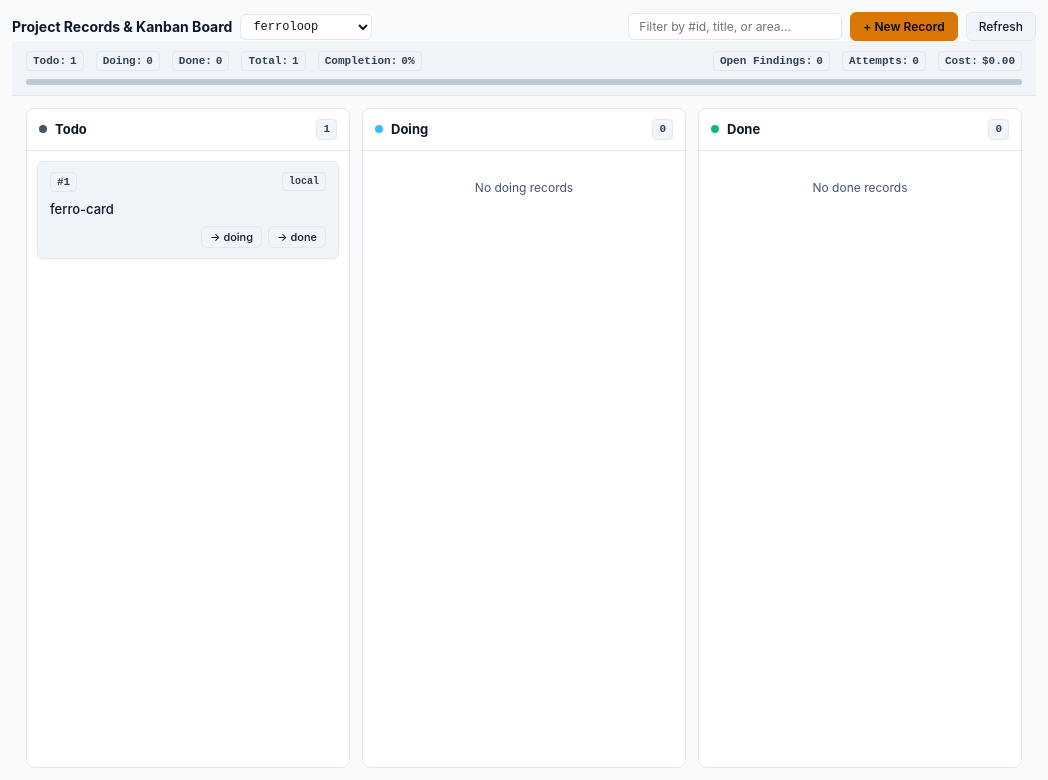
Test: RecordsBoardPane — answers that arrive after the user left the project › does not add a record created in one project to the board of another
Click the button with test id "board-new-record-btn".
click(904, 26)  # box left=850, top=12, right=958, bottom=41
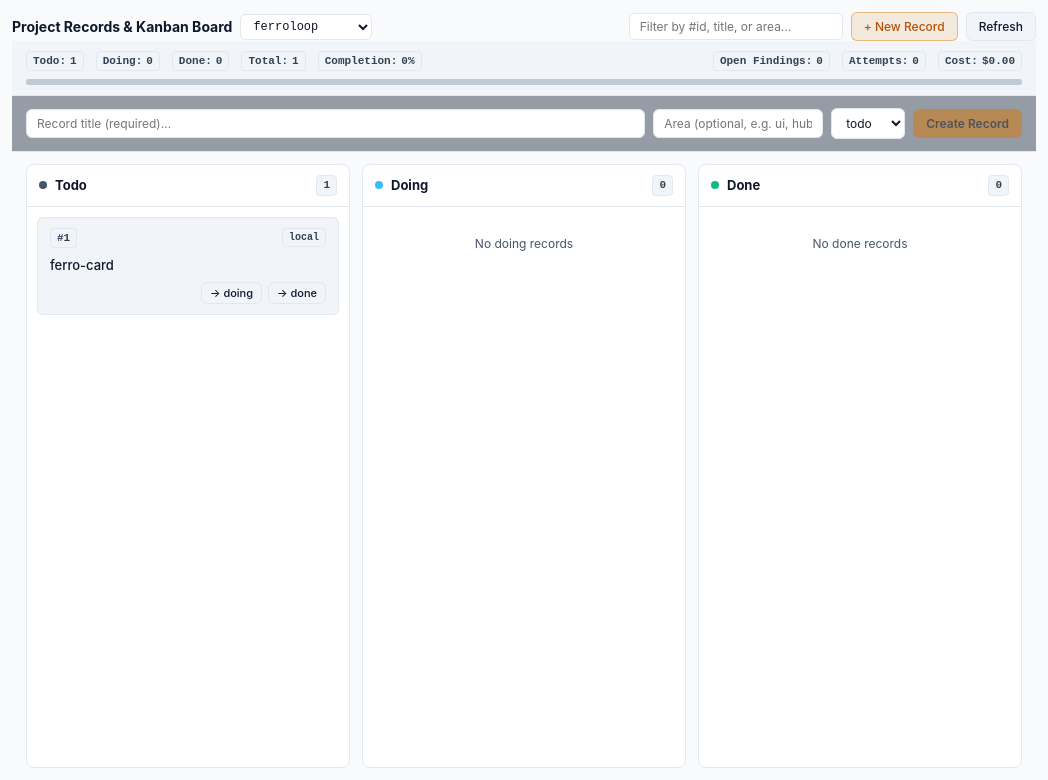
Type "made in ferroloop" into the field with test id "new-record-title-input".
click(336, 124); type("made in ferroloop")  # box left=26, top=109, right=645, bottom=138
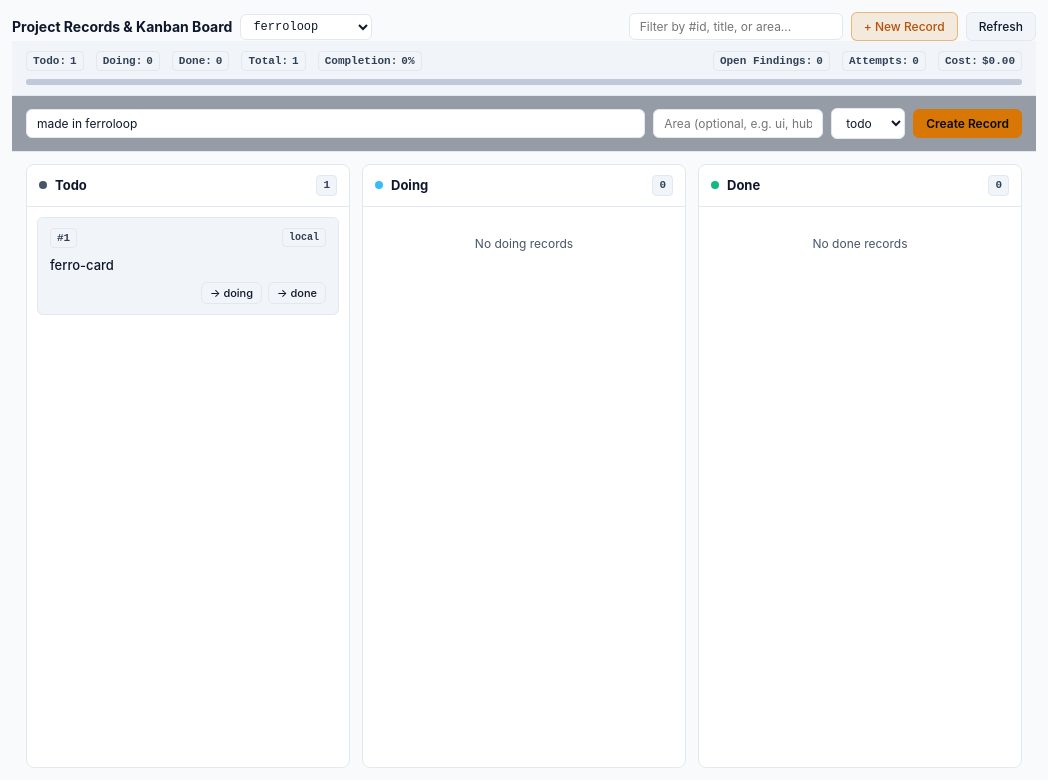
Click the button with test id "submit-new-record-btn".
click(968, 124)  # box left=913, top=109, right=1022, bottom=138
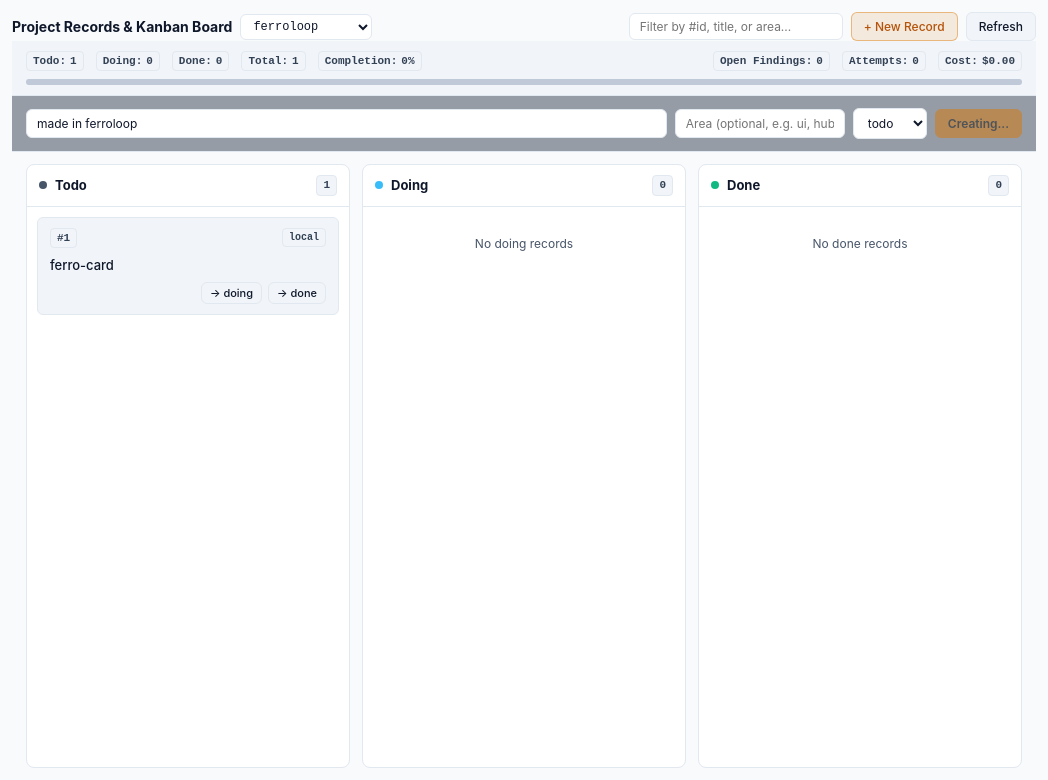
Select "sonora" in the dropdown with test id "board-project-select" at (306, 26), box left=240, top=14, right=372, bottom=40
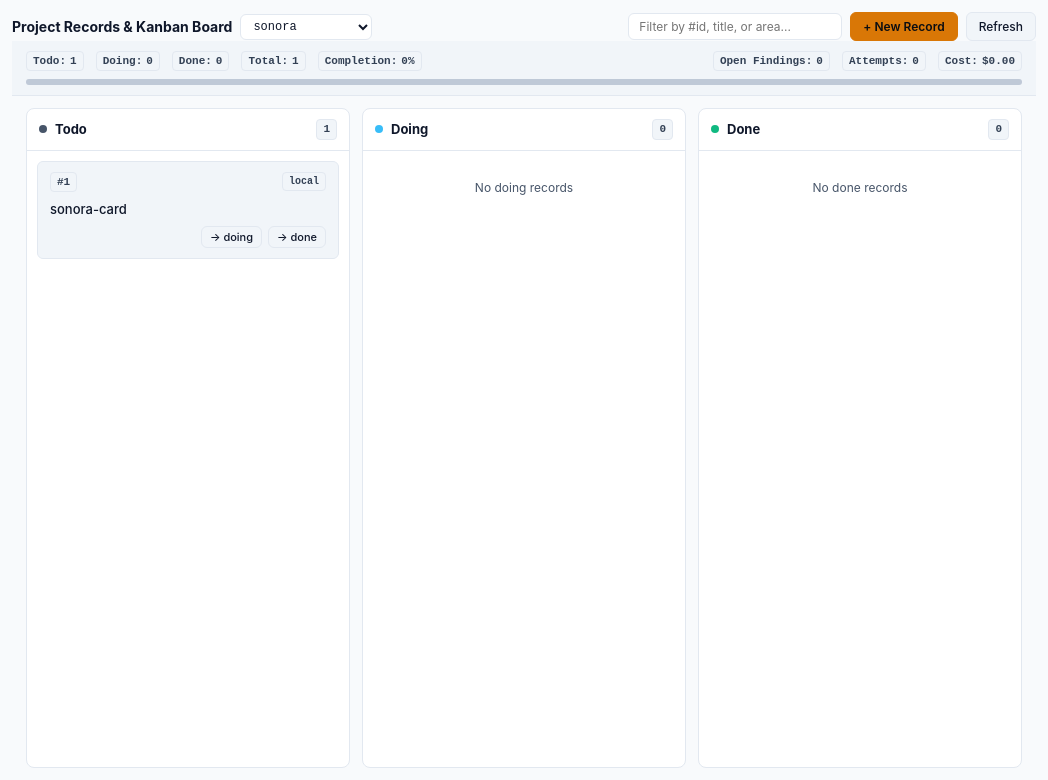
Expected: the element with test id "^record-card-" does not show "made in ferroloop"
Expected: the element with test id "^record-card-" shows "sonora-card", left=50, top=201, right=127, bottom=217
